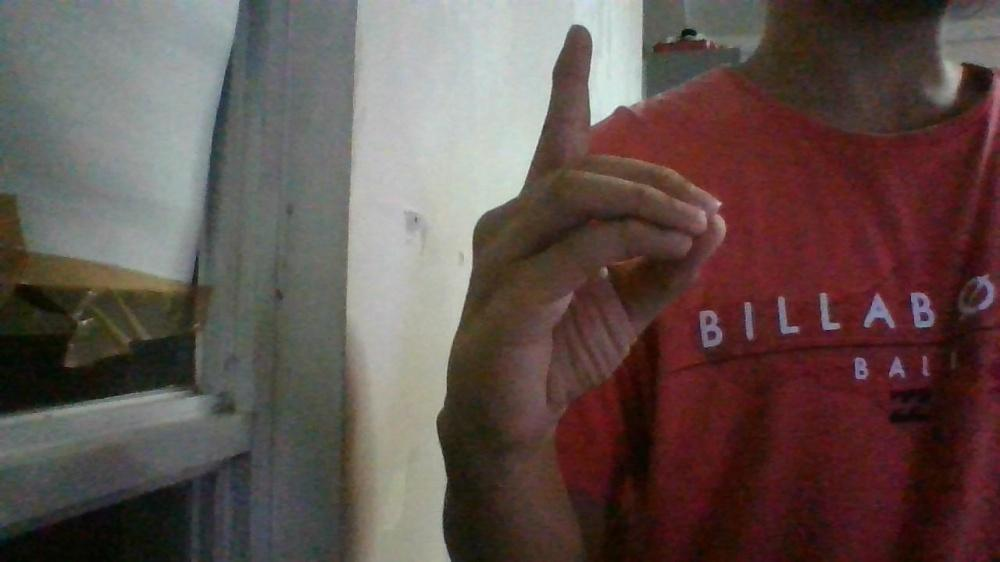d: (431, 21, 731, 445)
